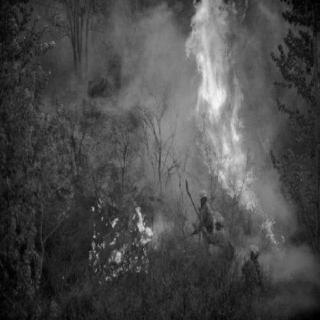Fire: (84, 197, 160, 273)
other: (197, 185, 235, 257), (247, 236, 267, 308)
